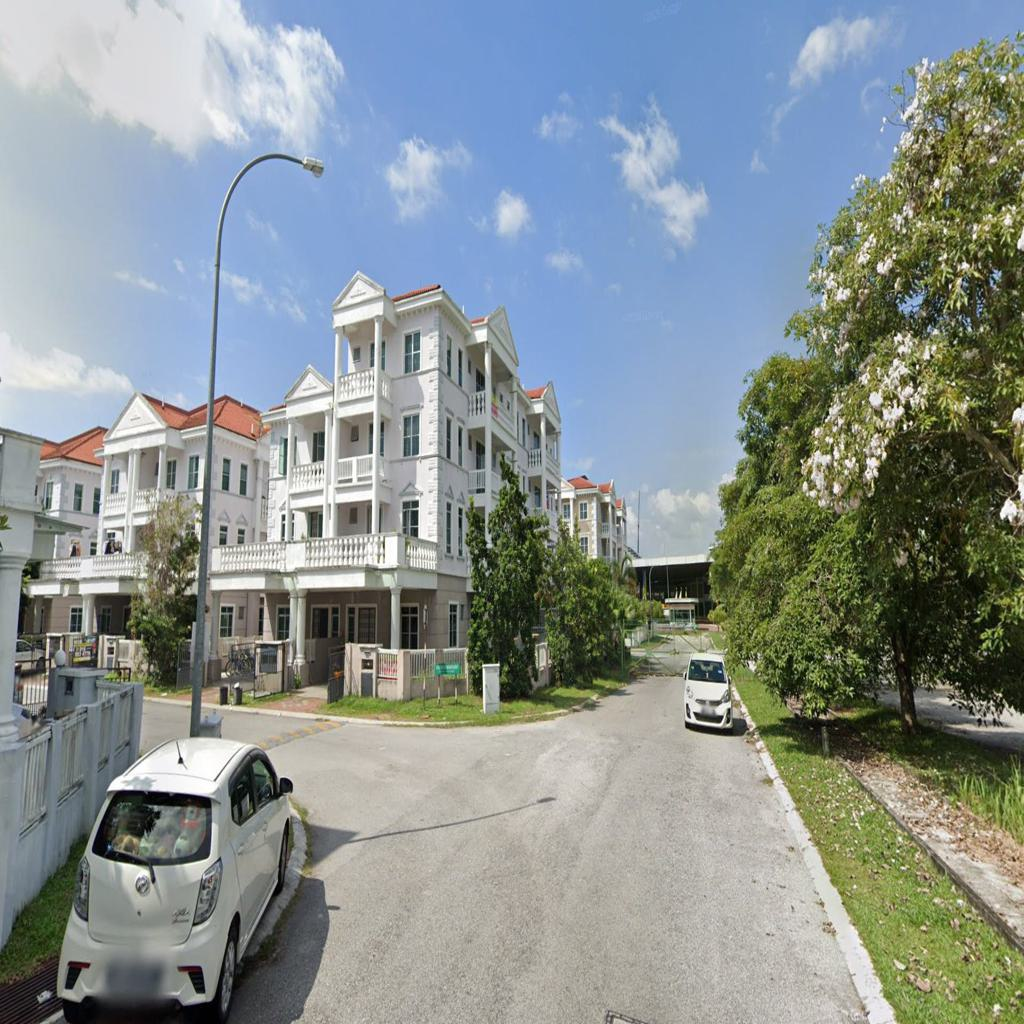Junction: (203, 674, 512, 860)
